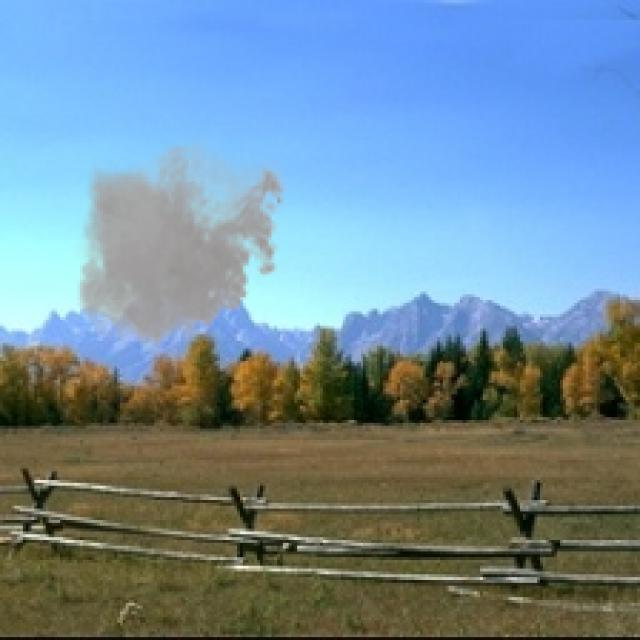smoke: (68, 132, 292, 357)
